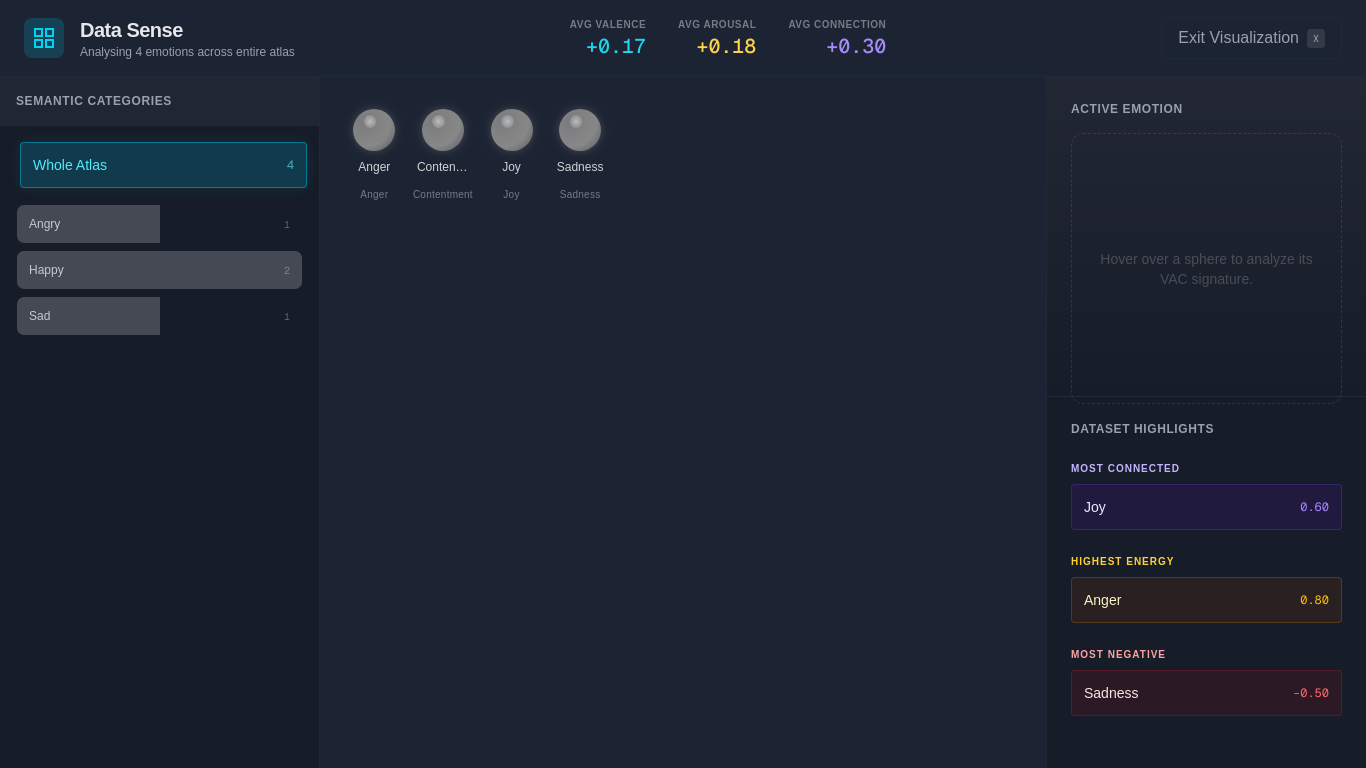
Test case: DataVisualizationOverlay › filters by category
# Click Category "Happy"
Click the text "Happy" at [46, 270], box left=29, top=262, right=64, bottom=278
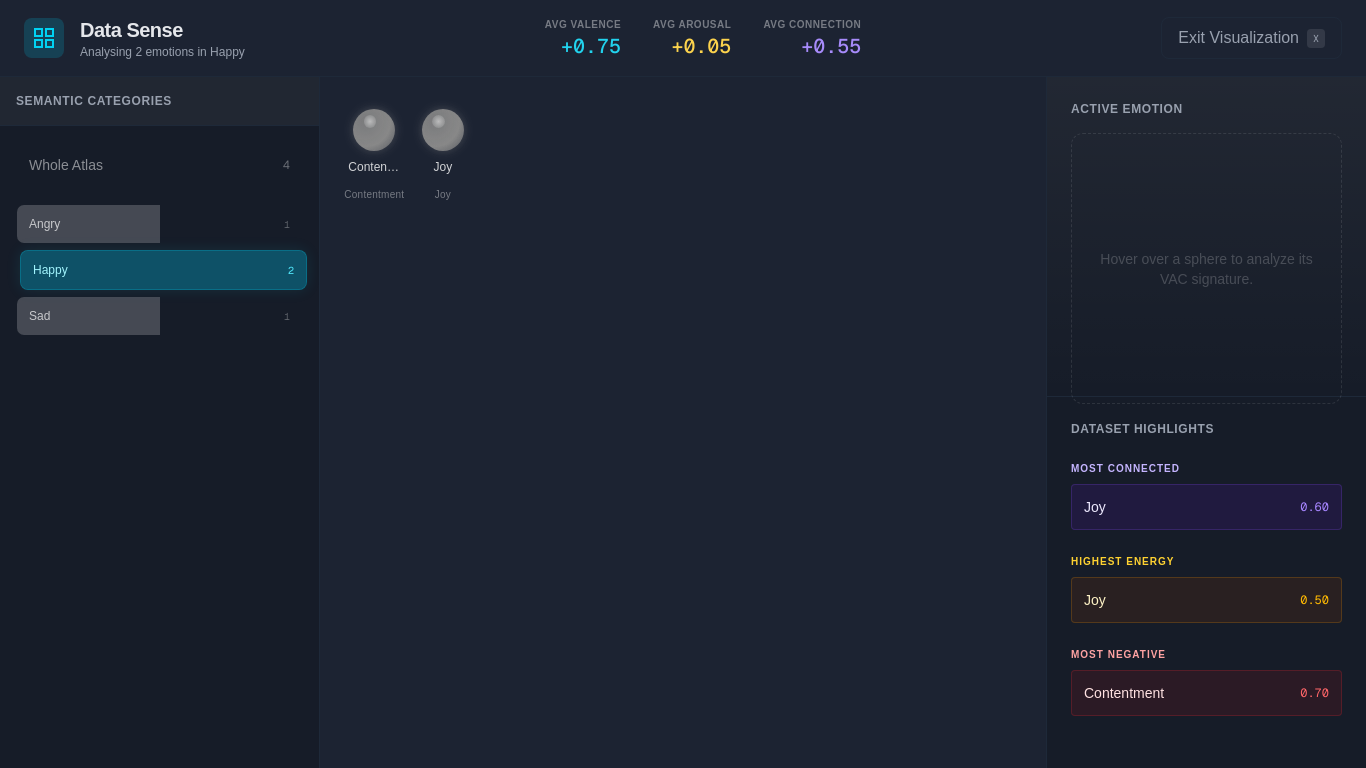
Expected: the 1st text "Joy" is shown, left=434, top=160, right=452, bottom=174
Now the text "Sadness" is gone
Now the text "Anger" is gone
# Clear filter
Click the text "Whole Atlas" at [66, 165], box left=29, top=155, right=103, bottom=175
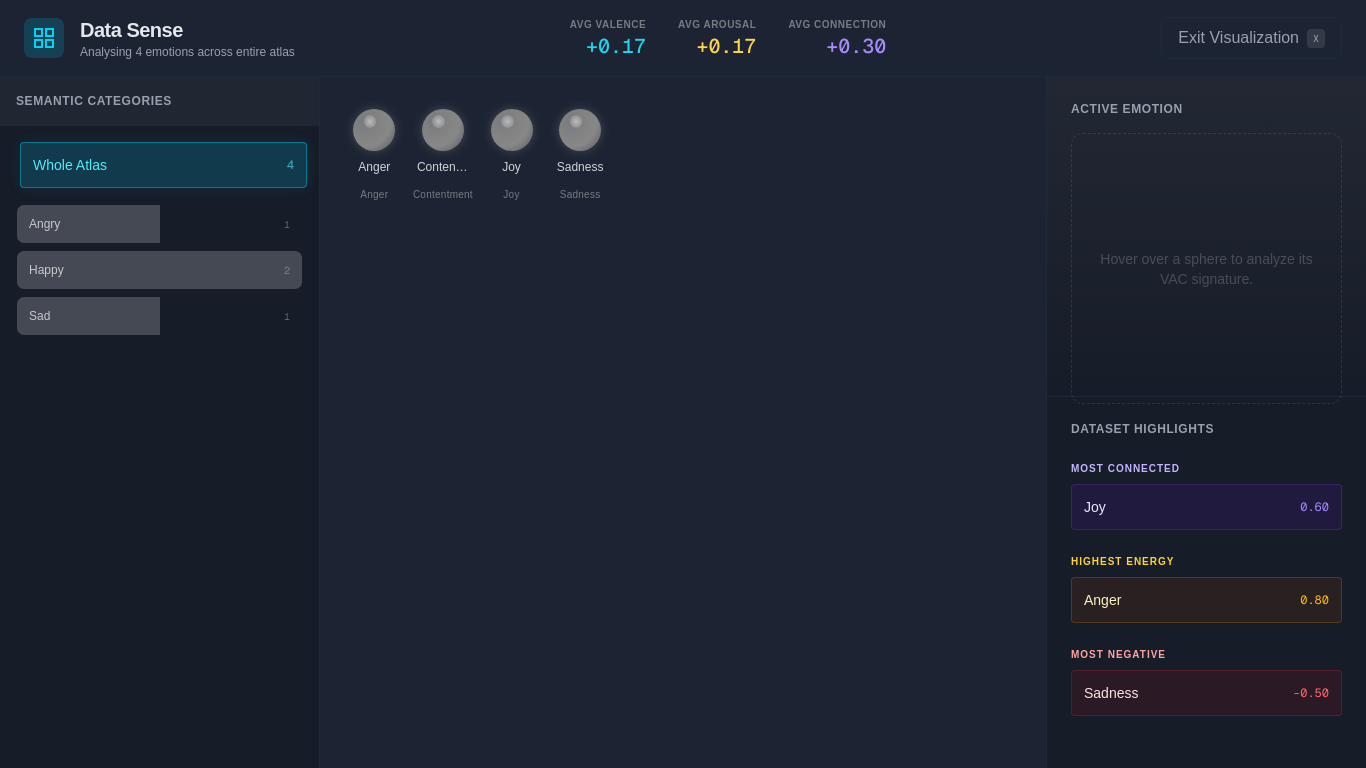
Now the 1st text "Sadness" is shown, box left=557, top=160, right=603, bottom=174
